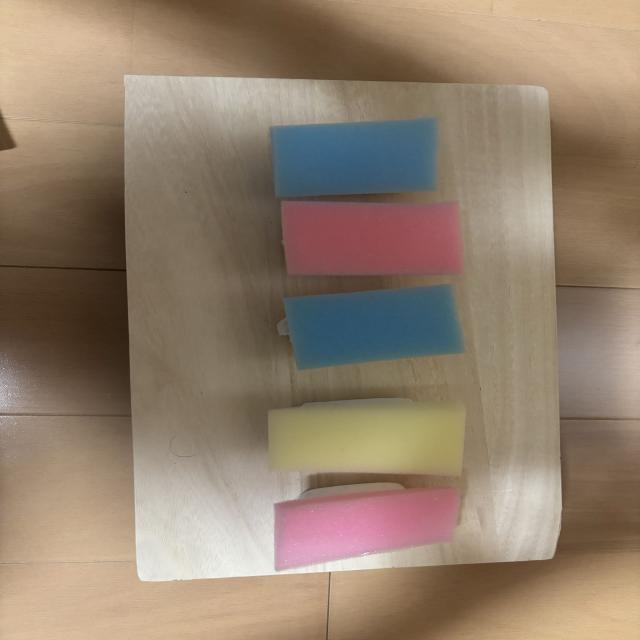ika: (284, 284, 464, 369), (270, 118, 439, 198)
tai: (274, 487, 460, 571), (281, 201, 464, 276)
tamago: (269, 401, 465, 476)
